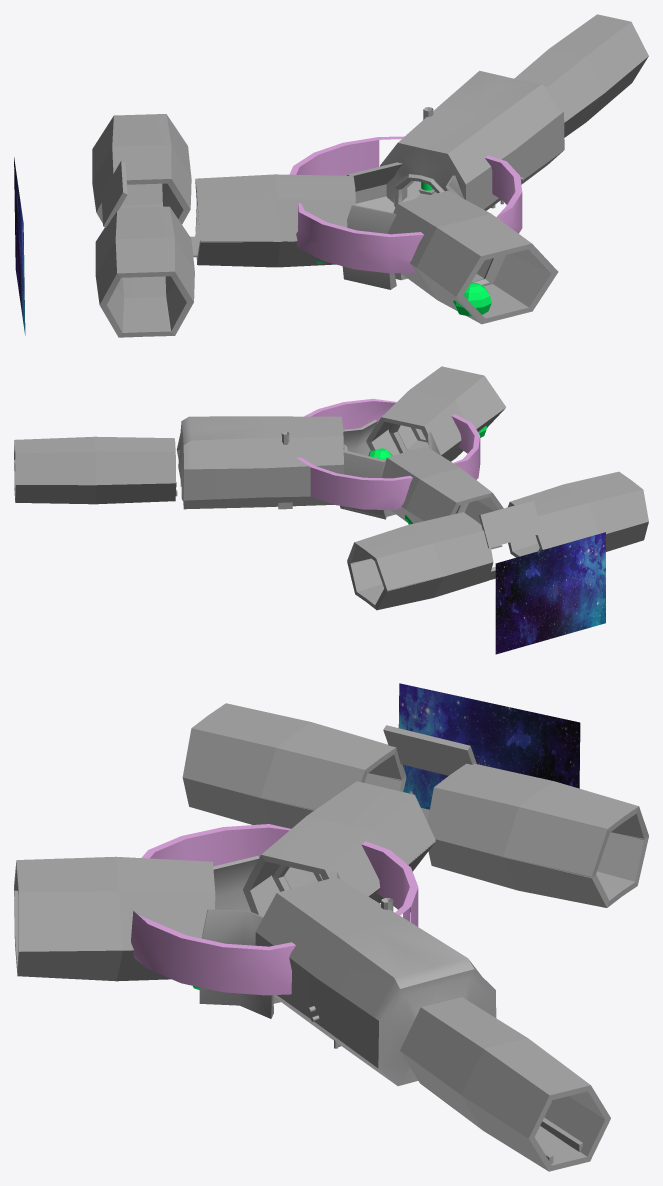
The model's file is HVArena8.fbx.
The picture shows the model from 3 angles, top to bottom: view 1: azimuth 30°, elevation 25°; view 2: azimuth 150°, elevation 25°; view 3: azimuth 270°, elevation 25°; orthographic projection. The views are drawn at different scales.
Visible parts, largest first — view 1: pTorus9 (×2), pTorus13, pTorus16, polySurface1, pTorus8, pTorus15, pCube8, pCube9, pPlane1, pCube12, pSphere10, pTorus12; view 2: pTorus13, pTorus9 (×2), pTorus8, pPlane1, pTorus15, pTorus16, polySurface1, pCube12, pCube9, pCube10; view 3: pTorus9 (×2), pTorus13, pTorus15, pTorus8, pTorus16, polySurface1, pPlane1, pCube10, pCube12, pCube8.
Boxes of the visible parts, x1=… form: pTorus9 (×2): x1=195, y1=174, x2=558, y2=324; pTorus13: x1=380, y1=70, x2=564, y2=210; pTorus16: x1=95, y1=206, x2=194, y2=337; polySurface1: x1=289, y1=136, x2=522, y2=273; pTorus8: x1=514, y1=14, x2=648, y2=137; pTorus15: x1=92, y1=114, x2=191, y2=224; pCube8: x1=342, y1=205, x2=396, y2=289; pCube9: x1=347, y1=162, x2=402, y2=212; pPlane1: x1=14, y1=157, x2=25, y2=335; pCube12: x1=101, y1=161, x2=127, y2=227; pSphere10: x1=453, y1=282, x2=491, y2=316; pTorus12: x1=394, y1=174, x2=444, y2=207; pTorus13: x1=176, y1=416, x2=343, y2=509; pTorus9 (×2): x1=366, y1=366, x2=506, y2=524; pTorus8: x1=14, y1=436, x2=176, y2=504; pPlane1: x1=495, y1=532, x2=605, y2=654; pTorus15: x1=347, y1=512, x2=493, y2=610; pTorus16: x1=508, y1=471, x2=648, y2=557; polySurface1: x1=297, y1=398, x2=480, y2=510; pCube12: x1=479, y1=500, x2=542, y2=548; pCube9: x1=340, y1=450, x2=386, y2=519; pCube10: x1=343, y1=420, x2=377, y2=455; pTorus9 (×2): x1=14, y1=781, x2=435, y2=981; pTorus13: x1=255, y1=877, x2=496, y2=1086; pTorus15: x1=427, y1=763, x2=648, y2=907; pTorus8: x1=400, y1=997, x2=610, y2=1171; pTorus16: x1=182, y1=703, x2=406, y2=828; polySurface1: x1=131, y1=824, x2=418, y2=995; pPlane1: x1=398, y1=683, x2=580, y2=809; pCube10: x1=199, y1=909, x2=273, y2=1018; pCube12: x1=383, y1=725, x2=476, y2=775; pCube8: x1=213, y1=855, x2=259, y2=911.
Bounding box in the file's own units: 63.34 × 12.03 × 41.34.
